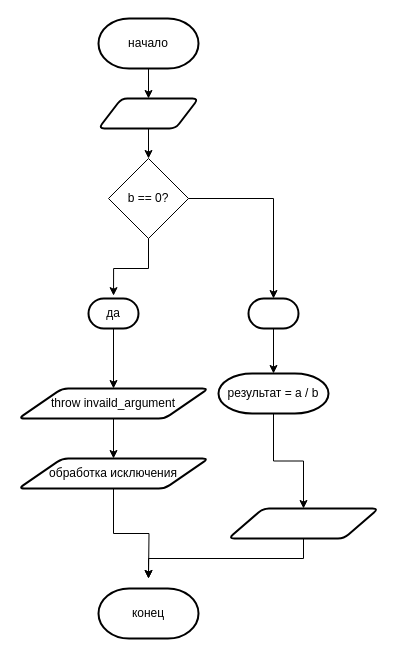
Image size: 396x656. Some labels were removed from this diagram. Each missing label, with the box of its shape:
ввод а, b: (97, 97, 199, 129)
вывод результата: (227, 507, 379, 539)
нет: (247, 297, 299, 329)
